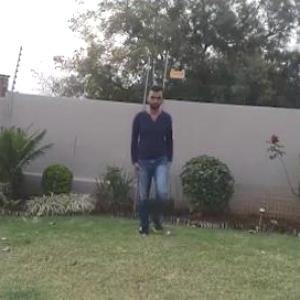follow: (129, 82, 181, 242)
